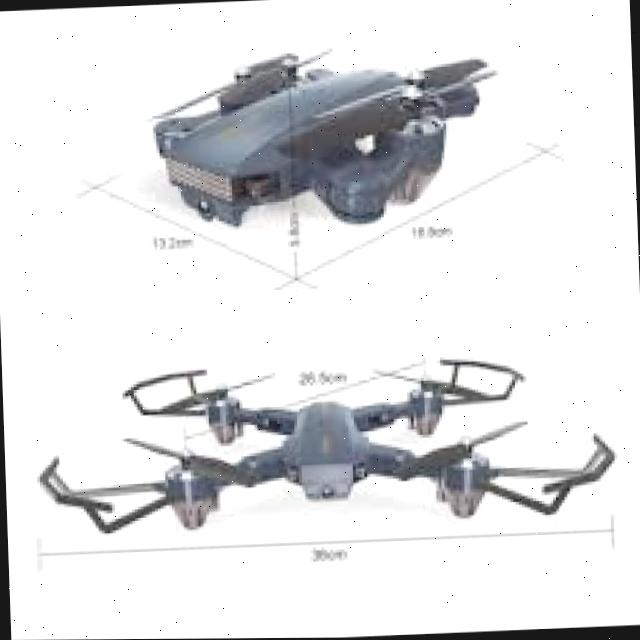drone: (21, 335, 613, 561)
